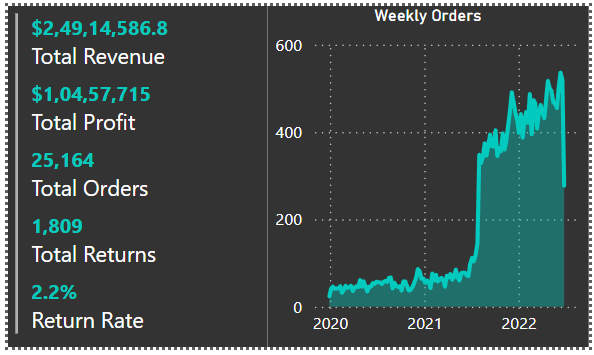

The page's visual inventory and layout, read from the dashboard file:
{"tool":"powerbi","page":{"name":"Custom Tooltip","canvas":[425,250],"ordinal":4},"visuals":[{"type":"multiRowCard","fields":{"Values":["Measure Table.Total Revenue","Measure Table.Total Profit","Measure Table.Total Orders","Measure Table.Total Returns","Measure Table.Return Rate"]},"box":[0,0,190,250],"z":0},{"type":"areaChart","title":"Weekly Orders","fields":{"Y":["Measure Table.Total Orders"],"Category":["Calendar Lookup.Start of Week"]},"box":[190,0,235,250],"z":1000}]}

Visuals, with their boxes in screenshot pixels (x1, y1, x2, y2), scaled from the page's 425x250 canvas onto the 594x355 screenshot:
multiRowCard - Measure Table.Total Revenue x Measure Table.Total Profit: [x1=0, y1=0, x2=266, y2=354]
"Weekly Orders" areaChart: [x1=266, y1=0, x2=593, y2=354]
